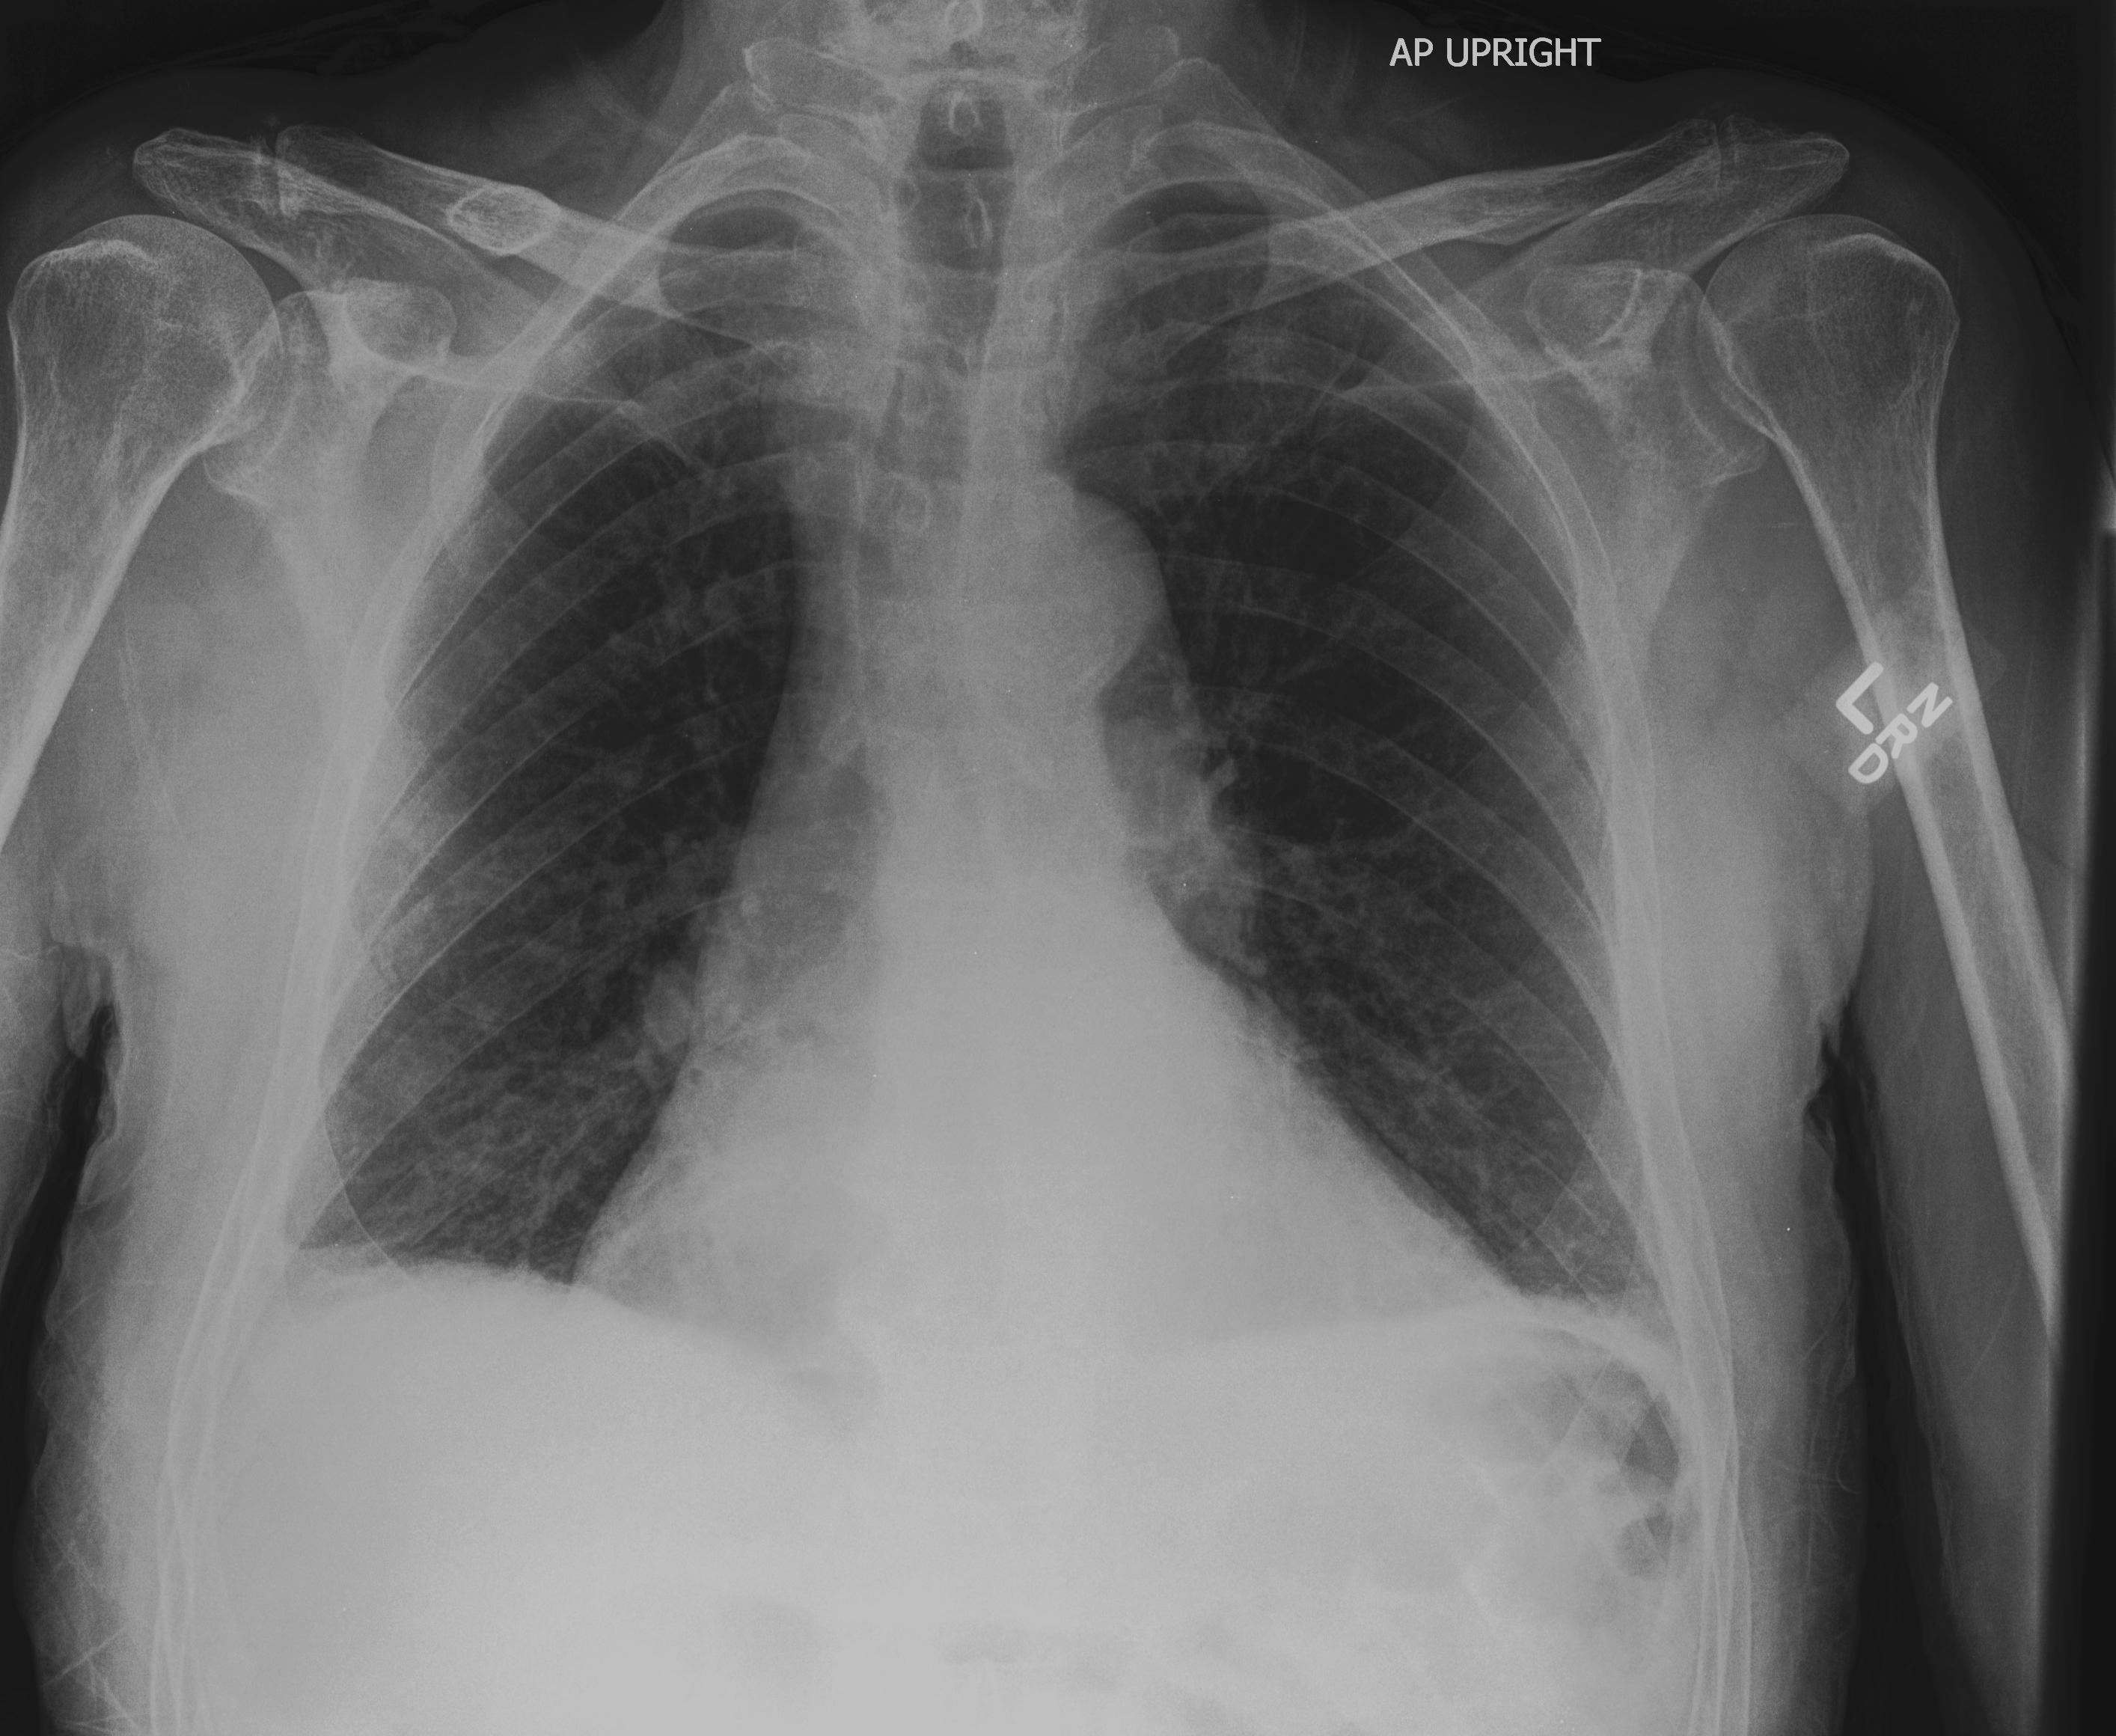Pleural Effusion: (151, 1218, 589, 1587)
